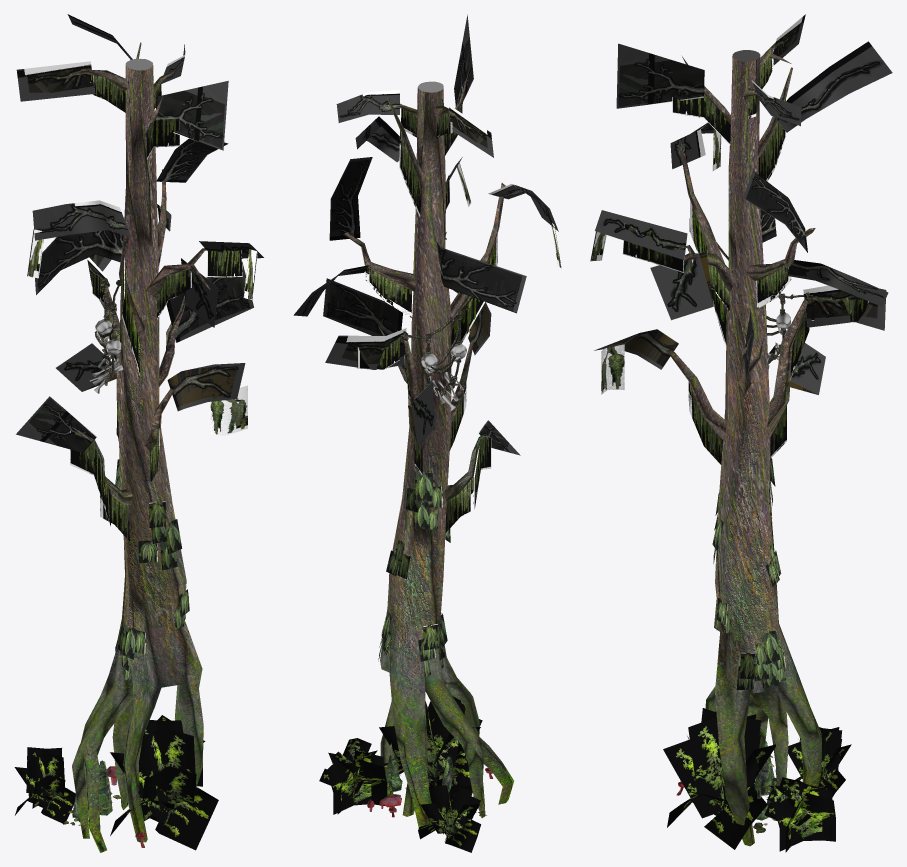
Rendered from forest-tree-dead.glb.
3 views of the same model, side by side, from view 1: azimuth 30°, elevation 25°; view 2: azimuth 150°, elevation 25°; view 3: azimuth 270°, elevation 25° (orthographic). The views are drawn at different scales.
Parts seen in each view (by area): view 1: forest-tree-dead_mesh; view 2: forest-tree-dead_mesh; view 3: forest-tree-dead_mesh.
Boxes of the visible parts, <box> form: forest-tree-dead_mesh: <box>14,14,263,852</box>; forest-tree-dead_mesh: <box>293,14,561,852</box>; forest-tree-dead_mesh: <box>590,14,892,852</box>.
Bounding box in the file's own units: 2.76 × 8.65 × 3.
Materials: 9 (7 with a texture image).
